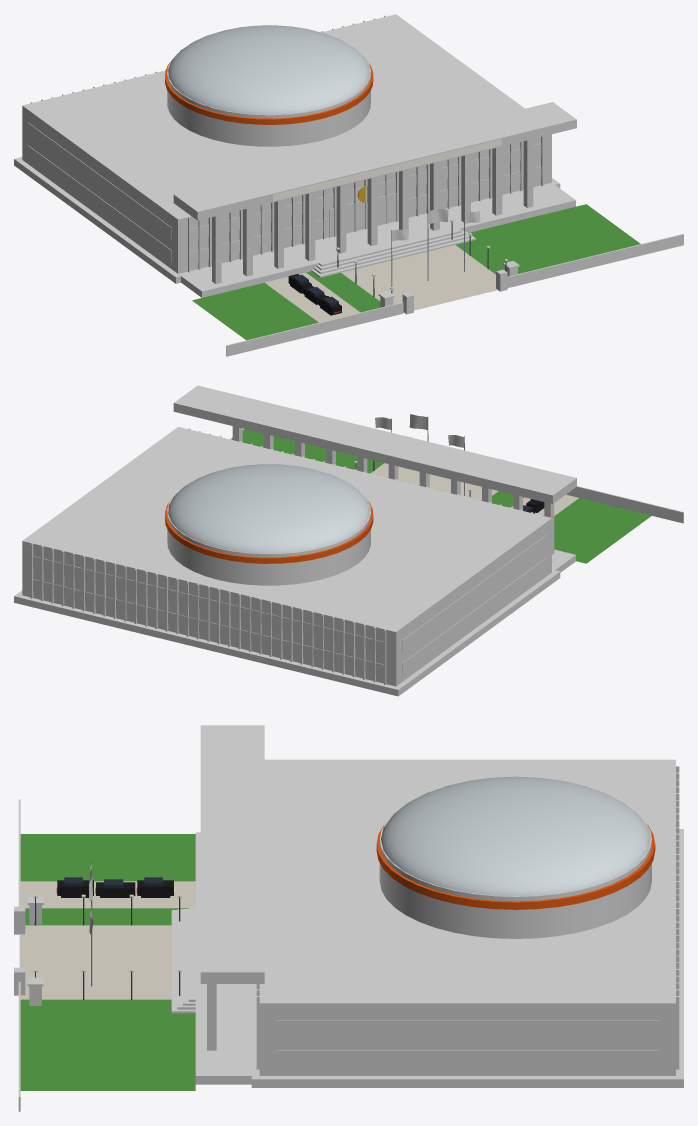
File: plateau-assemblee.glb
3 views of the same model, one above another, from view 1: azimuth 30°, elevation 25°; view 2: azimuth 150°, elevation 25°; view 3: azimuth 270°, elevation 25° (orthographic). The views are drawn at different scales.
Bounding box in the file's own units: 88 × 21.16 × 83.7.
